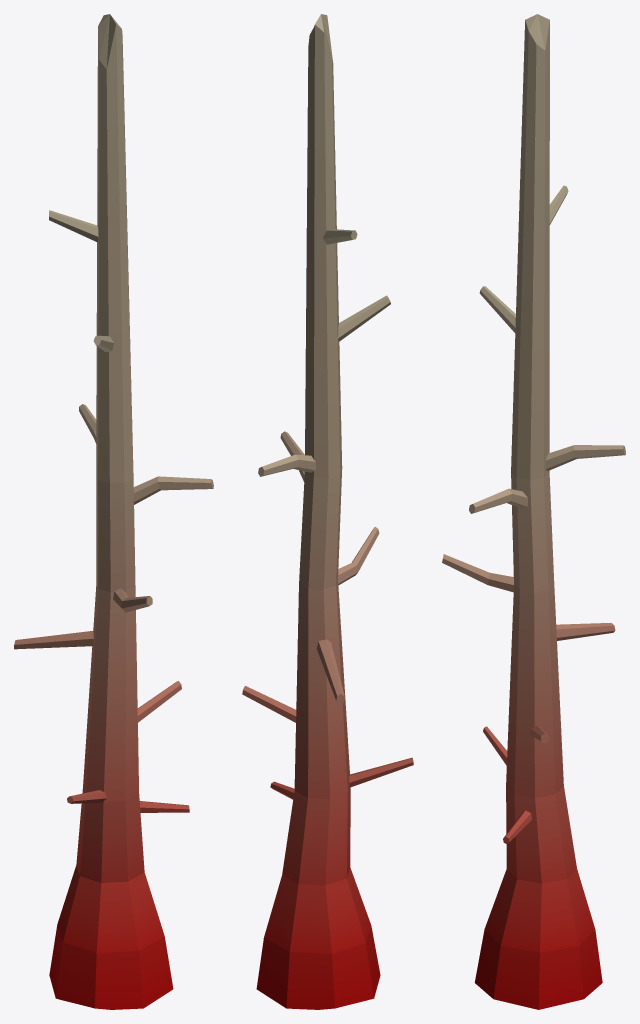
The picture shows the model from 3 angles, left to right: view 1: azimuth 30°, elevation 25°; view 2: azimuth 150°, elevation 25°; view 3: azimuth 270°, elevation 25°; orthographic projection.
Parts seen in each view (by area): view 1: SM_Tree_Pine_Dead_01; view 2: SM_Tree_Pine_Dead_01; view 3: SM_Tree_Pine_Dead_01.
Boxes of the visible parts, x1=… form: SM_Tree_Pine_Dead_01: x1=14, y1=14, x2=213, y2=1009; SM_Tree_Pine_Dead_01: x1=242, y1=14, x2=413, y2=1009; SM_Tree_Pine_Dead_01: x1=442, y1=14, x2=625, y2=1009.
Bounding box in the file's own units: 1 × 6.73 × 1.13.
1 material, 1 textured.
